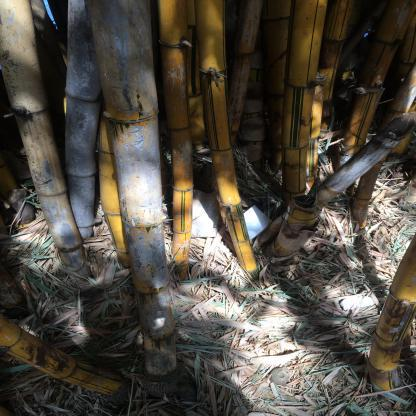plastik: (226, 205, 274, 241)
